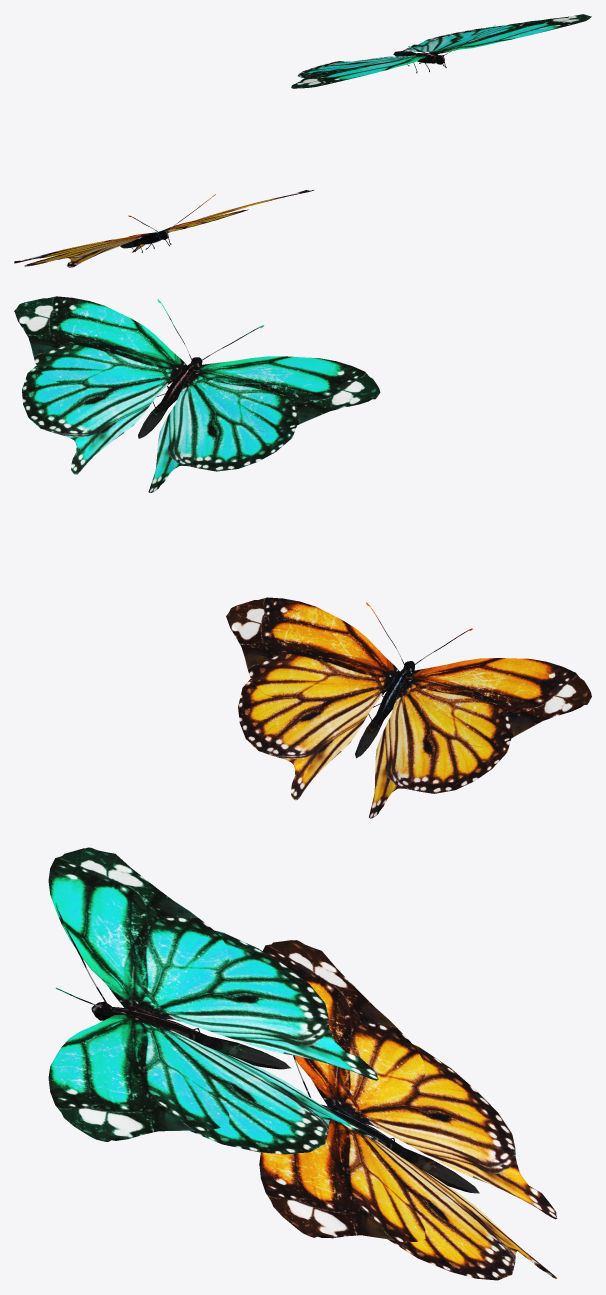
3 views of the same model, one above another, from view 1: azimuth 30°, elevation 25°; view 2: azimuth 150°, elevation 25°; view 3: azimuth 270°, elevation 25° (orthographic). The views are drawn at different scales.
Visible parts, largest first — view 1: pasted__Wings_Top1_Wings_Top1, pasted__Wings_Side1_Wings_Side1, Wings_Side1_Wings_Side1, Wings_Top1_Wings_Top1, Body, pasted__Body; view 2: Wings_Top1_Wings_Top1, pasted__Wings_Top1_Wings_Top1, Wings_Side1_Wings_Side1, pasted__Wings_Side1_Wings_Side1, Body, pasted__Body; view 3: pasted__Wings_Top1_Wings_Top1, Wings_Top1_Wings_Top1, pasted__Wings_Side1_Wings_Side1, Wings_Side1_Wings_Side1, pasted__Body, Body.
Part boxes in pixels (x1,y1,x2,y2): pasted__Wings_Top1_Wings_Top1: (291, 14, 591, 88); pasted__Wings_Side1_Wings_Side1: (298, 25, 504, 77); Wings_Side1_Wings_Side1: (24, 209, 248, 267); Wings_Top1_Wings_Top1: (14, 190, 313, 263); Body: (120, 194, 215, 252); pasted__Body: (393, 25, 495, 73); Wings_Top1_Wings_Top1: (226, 597, 591, 747); pasted__Wings_Top1_Wings_Top1: (14, 296, 380, 432); Wings_Side1_Wings_Side1: (238, 679, 510, 818); pasted__Wings_Side1_Wings_Side1: (22, 365, 296, 492); Body: (355, 602, 472, 758); pasted__Body: (138, 299, 264, 438); pasted__Wings_Top1_Wings_Top1: (48, 847, 229, 1141); Wings_Top1_Wings_Top1: (259, 940, 425, 1242); pasted__Wings_Side1_Wings_Side1: (139, 930, 378, 1154); Wings_Side1_Wings_Side1: (343, 1044, 557, 1280); pasted__Body: (55, 902, 290, 1069); Body: (293, 1055, 479, 1193).
Bounding box in the file's own units: 300 × 144 × 127.
2 materials, 2 textured.
